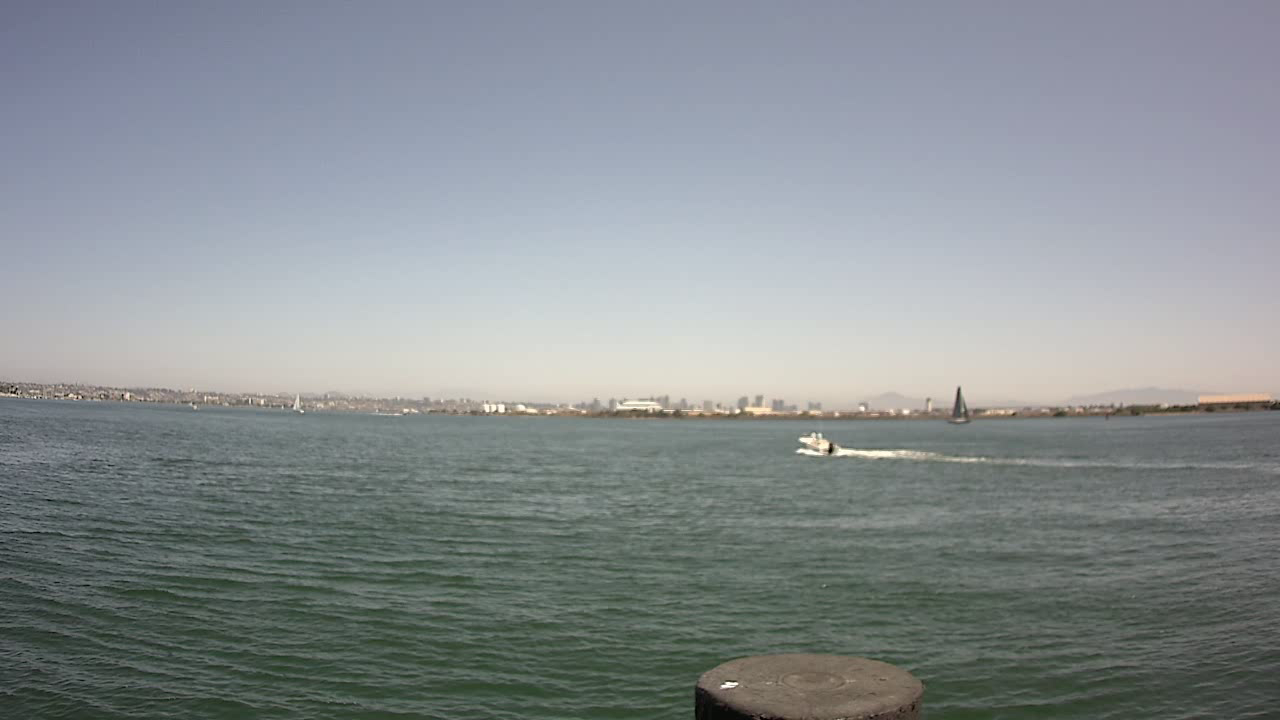target: (791, 430, 845, 459)
